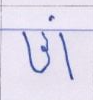anusvara: (49, 16, 54, 21)
